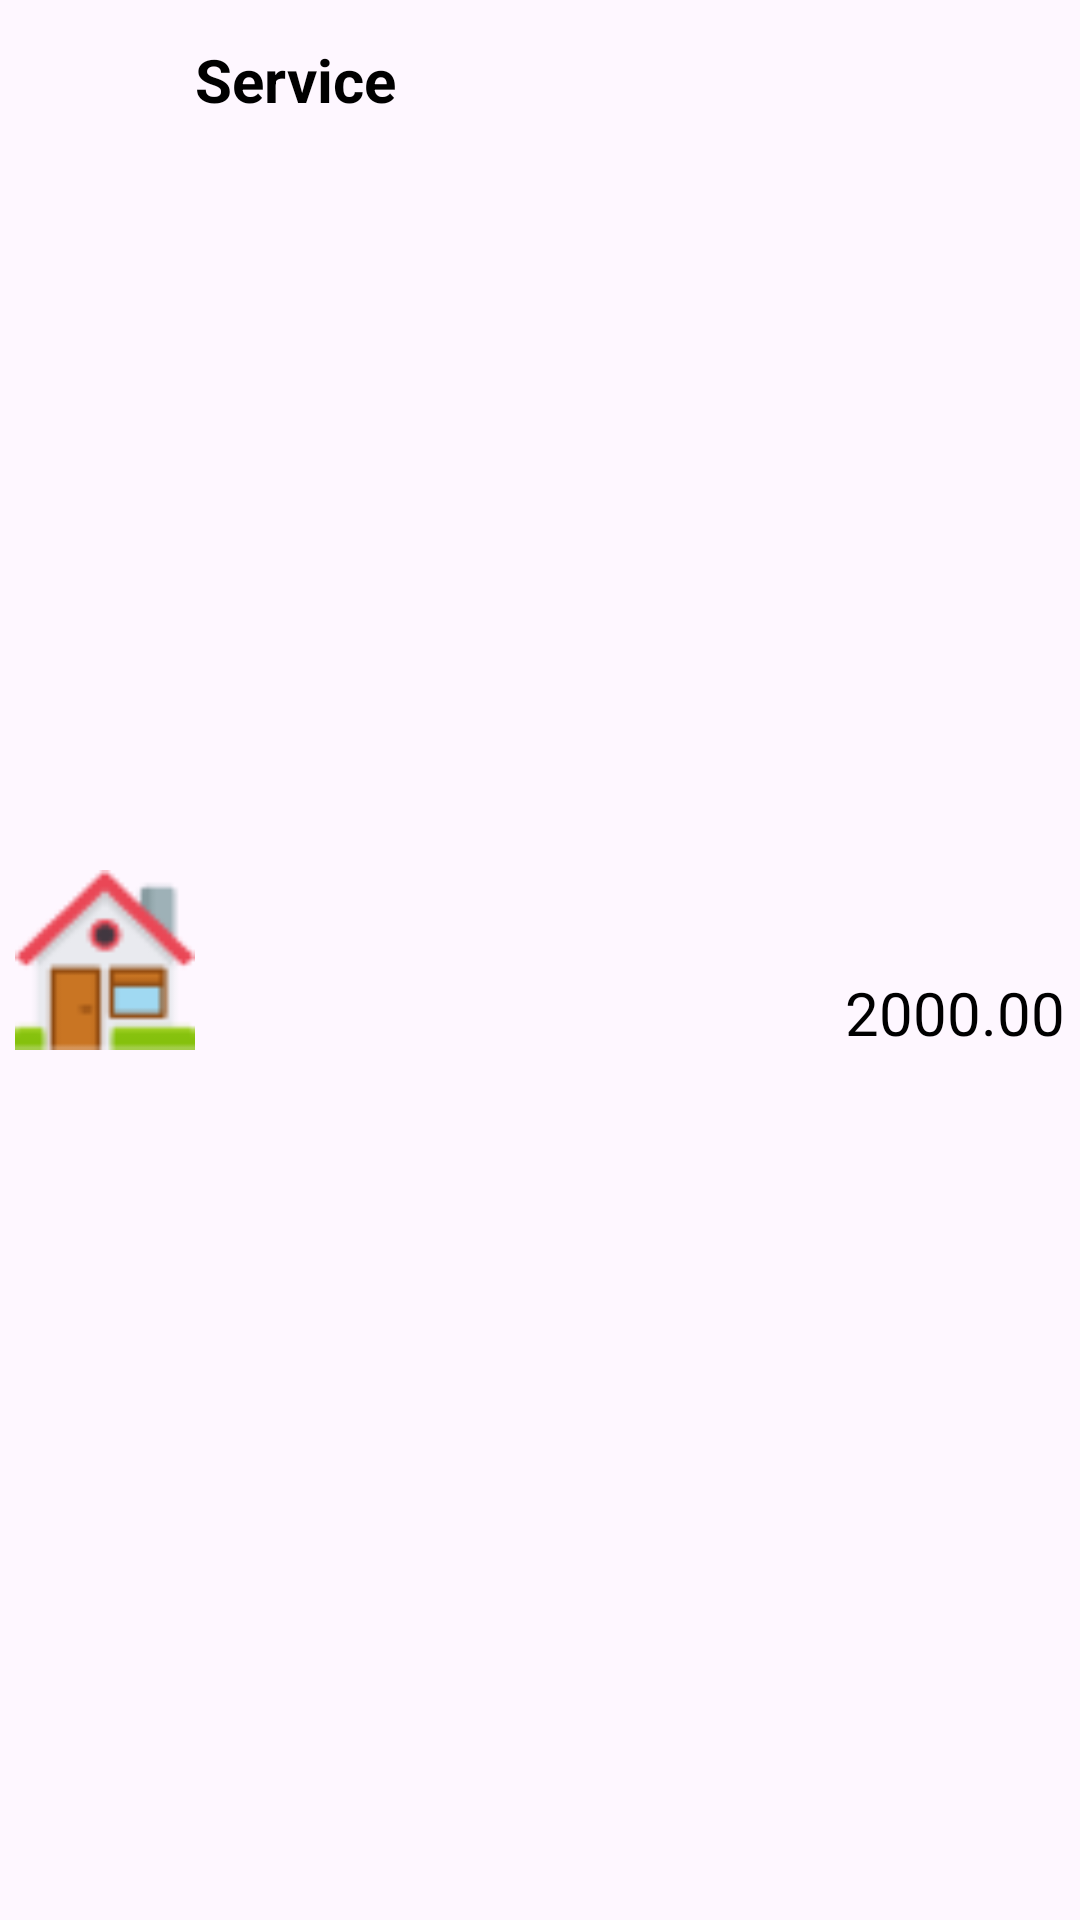

Where to tap for icons on this 1080*1920 app screen, as (x=x, y=y):
house: (x=105, y=960)
